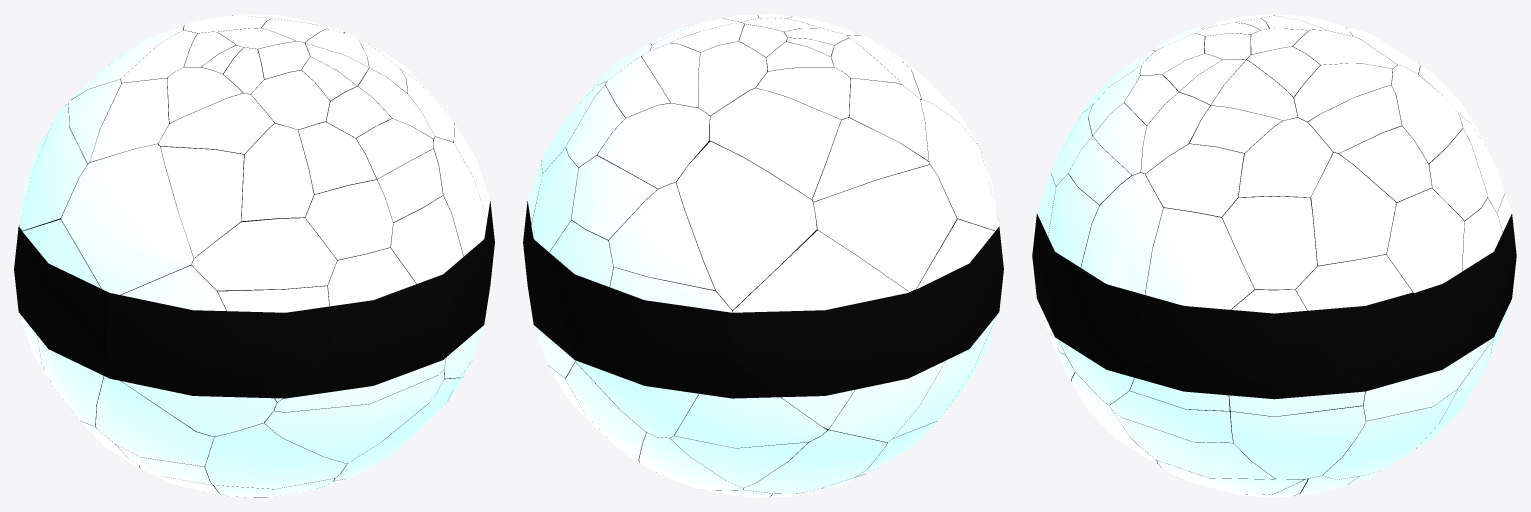
The model's file is Abul.fbx.
3 views of the same model, side by side, from view 1: azimuth 30°, elevation 25°; view 2: azimuth 150°, elevation 25°; view 3: azimuth 270°, elevation 25° (orthographic).
Visible parts, largest first — view 1: Sphere_cell.046, Sphere_cell.079, Sphere_cell.023, Sphere_cell.040, Sphere_cell.059, Sphere_cell.090, Sphere_cell.042, Sphere_cell.071, Sphere_cell.087, Sphere_cell.002, Sphere_cell.078, Sphere_cell.084 (+35 smaller); view 2: Sphere_cell.003, Sphere_cell.044, Sphere_cell.066, Sphere_cell.029, Sphere_cell.094, Sphere_cell.010, Sphere_cell.019, Sphere_cell.014, Sphere_cell.023, Sphere_cell.022, Sphere_cell.058, Sphere_cell.035 (+30 smaller); view 3: Sphere_cell.068, Sphere_cell.095, Sphere_cell.017, Sphere_cell.092, Sphere_cell.060, Sphere_cell.076, Sphere_cell.085, Sphere_cell.005, Sphere_cell.091, Sphere_cell.026, Sphere_cell.089, Sphere_cell.018 (+43 smaller).
Boxes of the visible parts, box(x1,y1,x2,y2) form: Sphere_cell.046: box(107, 265, 276, 436); Sphere_cell.079: box(61, 144, 193, 299); Sphere_cell.023: box(22, 219, 111, 372); Sphere_cell.040: box(218, 285, 330, 401); Sphere_cell.059: box(274, 321, 445, 412); Sphere_cell.090: box(192, 218, 336, 290); Sphere_cell.042: box(327, 247, 437, 350); Sphere_cell.071: box(264, 370, 444, 463); Sphere_cell.087: box(160, 146, 244, 258); Sphere_cell.002: box(205, 422, 346, 489); Sphere_cell.078: box(95, 372, 213, 466); Sphere_cell.084: box(241, 123, 313, 221); Sphere_cell.003: box(676, 141, 816, 309); Sphere_cell.044: box(732, 230, 908, 336); Sphere_cell.066: box(813, 165, 956, 291); Sphere_cell.029: box(728, 321, 887, 429); Sphere_cell.094: box(829, 289, 946, 442); Sphere_cell.010: box(575, 331, 720, 437); Sphere_cell.019: box(710, 88, 840, 199); Sphere_cell.014: box(607, 267, 732, 355); Sphere_cell.023: box(915, 219, 1003, 358); Sphere_cell.022: box(674, 349, 827, 448); Sphere_cell.058: box(609, 182, 715, 290); Sphere_cell.035: box(597, 103, 710, 189); Sphere_cell.068: box(1295, 254, 1413, 389); Sphere_cell.095: box(1050, 269, 1144, 405); Sphere_cell.017: box(1145, 208, 1254, 310); Sphere_cell.092: box(1228, 289, 1342, 378); Sphere_cell.060: box(1230, 405, 1365, 478); Sphere_cell.076: box(1222, 196, 1316, 289); Sphere_cell.085: box(1310, 152, 1396, 265); Sphere_cell.005: box(1081, 172, 1164, 296); Sphere_cell.091: box(1384, 188, 1464, 292); Sphere_cell.026: box(1363, 323, 1493, 420); Sphere_cell.089: box(1142, 296, 1229, 373); Sphere_cell.018: box(1238, 117, 1332, 197).
Bounding box in the file's own units: 200 × 200 × 200.
